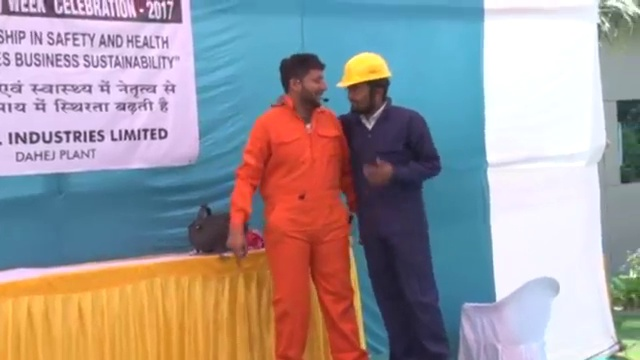helmet: (336, 50, 392, 90)
helmet_off: (277, 51, 330, 109)
helmet_on: (336, 50, 394, 117)
person: (227, 51, 360, 360), (335, 48, 451, 360)
